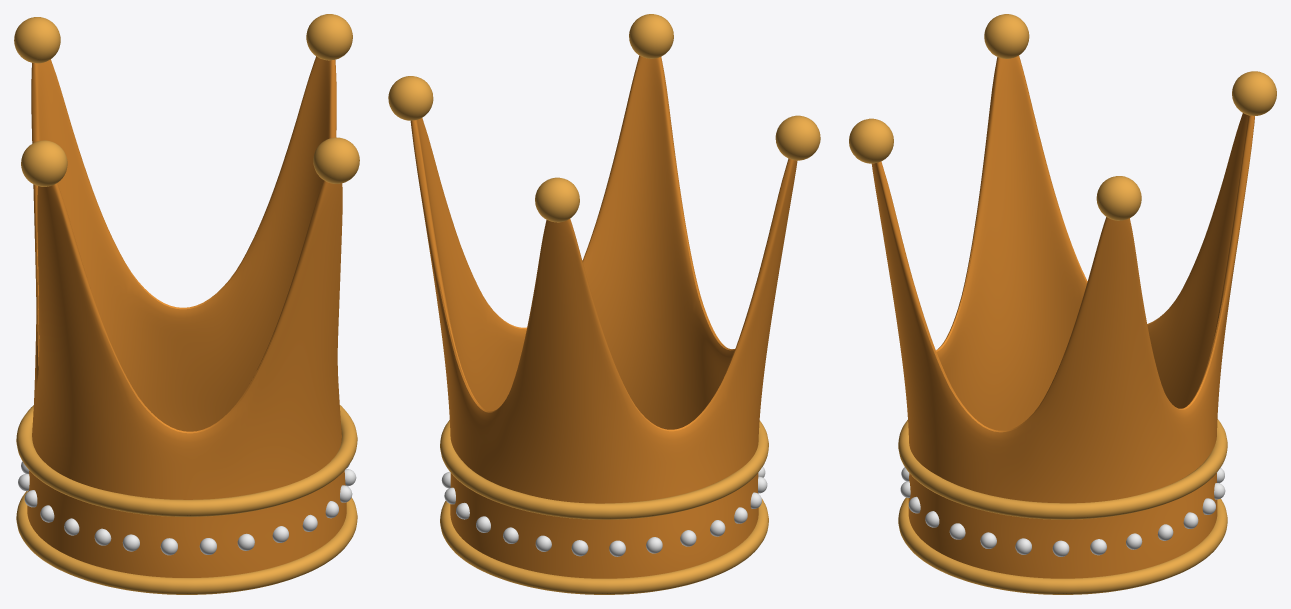
File: 02. Tall Golden Crown 3D Icon.glb
The picture shows the model from 3 angles, left to right: view 1: azimuth 30°, elevation 25°; view 2: azimuth 150°, elevation 25°; view 3: azimuth 270°, elevation 25°; orthographic projection. The views are drawn at different scales.
Parts seen in each view (by area): view 1: Cylinder.001, Cylinder.002, Roundcube.005, Roundcube.006; view 2: Cylinder.001, Cylinder.002, Roundcube.005, Roundcube.006; view 3: Cylinder.001, Cylinder.002, Roundcube.005, Roundcube.006.
Boxes of the visible parts, x1=… form: Cylinder.001: x1=27, y1=56, x2=346, y2=577; Cylinder.002: x1=16, y1=405, x2=357, y2=594; Roundcube.005: x1=14, y1=14, x2=359, y2=186; Roundcube.006: x1=18, y1=461, x2=356, y2=555; Cylinder.001: x1=410, y1=55, x2=797, y2=578; Cylinder.002: x1=440, y1=420, x2=768, y2=594; Roundcube.005: x1=388, y1=14, x2=820, y2=222; Roundcube.006: x1=441, y1=466, x2=767, y2=556; Cylinder.001: x1=871, y1=55, x2=1254, y2=578; Cylinder.002: x1=898, y1=419, x2=1227, y2=594; Roundcube.005: x1=849, y1=14, x2=1276, y2=220; Roundcube.006: x1=900, y1=467, x2=1225, y2=556.
Size of the model in its own units: 1.87 by 2.07 by 1.87.
